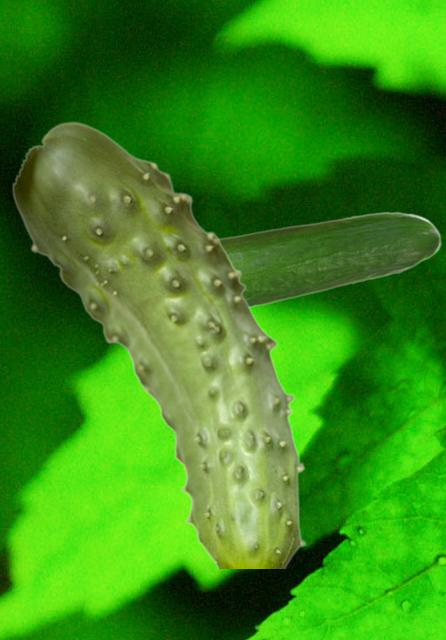cucumber: (11, 121, 306, 567), (220, 211, 440, 307)
